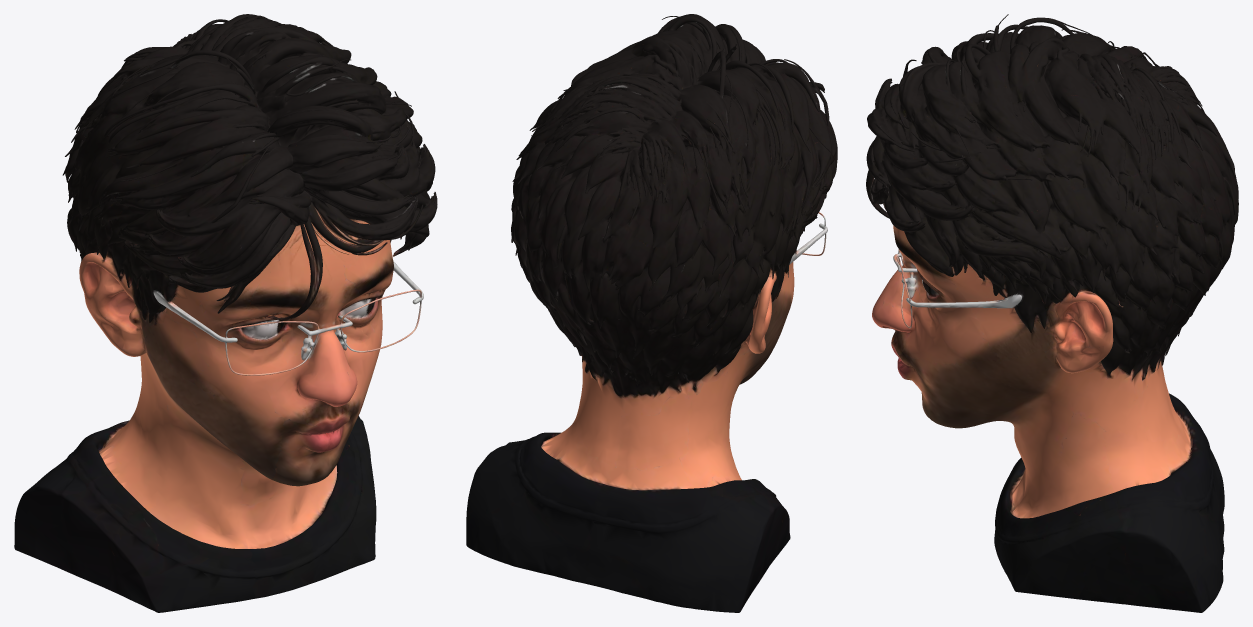
Rendered from whistle_eyes.glb.
3 views of the same model, side by side, from view 1: azimuth 30°, elevation 25°; view 2: azimuth 150°, elevation 25°; view 3: azimuth 270°, elevation 25° (orthographic). The views are drawn at different scales.
Visible parts, largest first — view 1: Mesh_0; view 2: Mesh_0; view 3: Mesh_0.
Boxes of the visible parts, x1,y1,x2,y2 form: Mesh_0: [14, 14, 437, 612]; Mesh_0: [466, 14, 837, 612]; Mesh_0: [866, 14, 1238, 612].
Size of the model in its own units: 1.18 by 1.9 by 1.26.
Materials: 1 (1 with a texture image).
